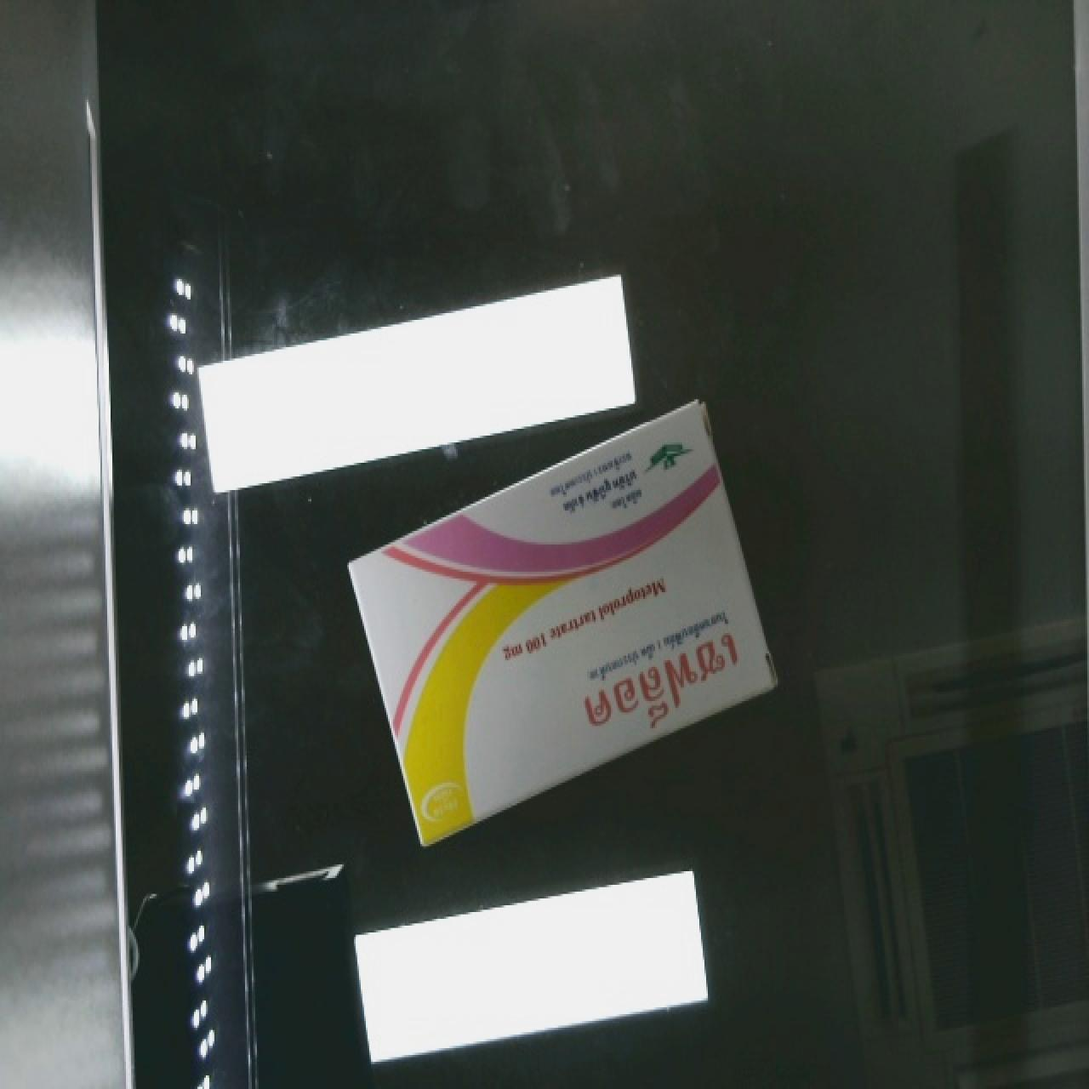medicine_label_obb: (561, 599, 787, 761)
